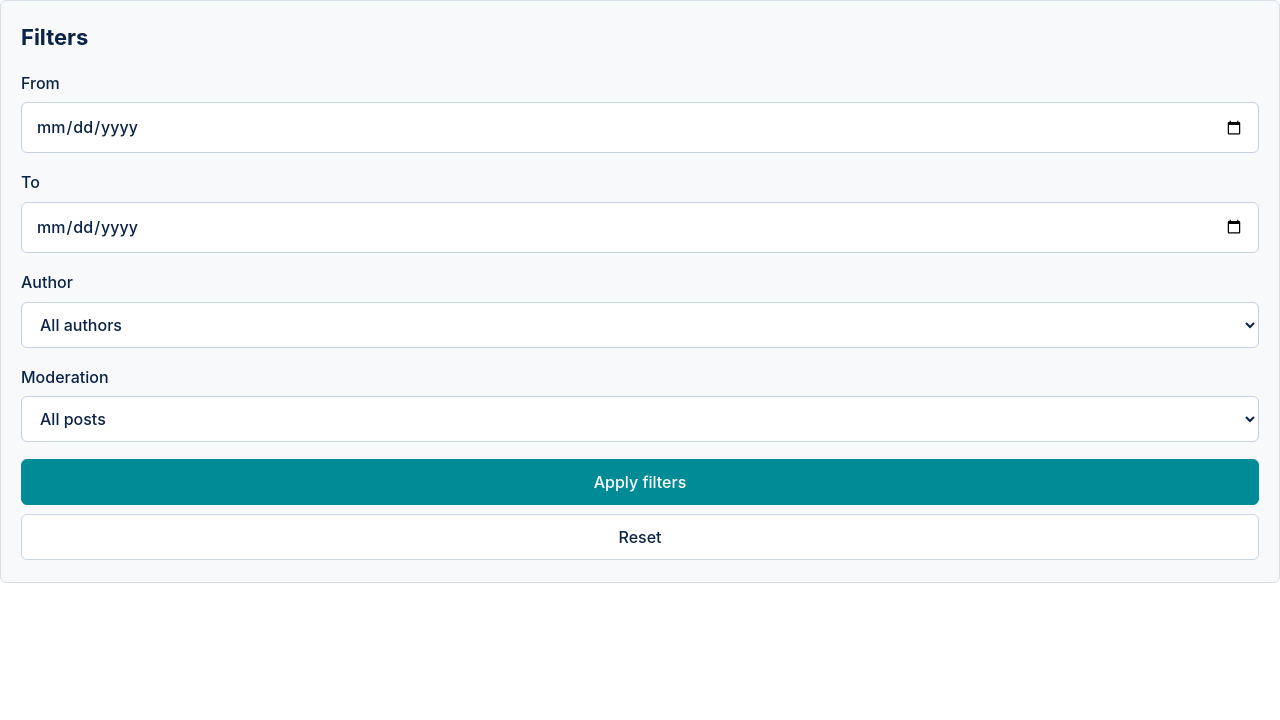
Test: rejects a reversed date range before applying filters
The image size is (1280, 720).
Type "2026-09-20" into the date field labelled "From".
click(640, 128); type("2026-09-20")  # box [21,102,1259,153]
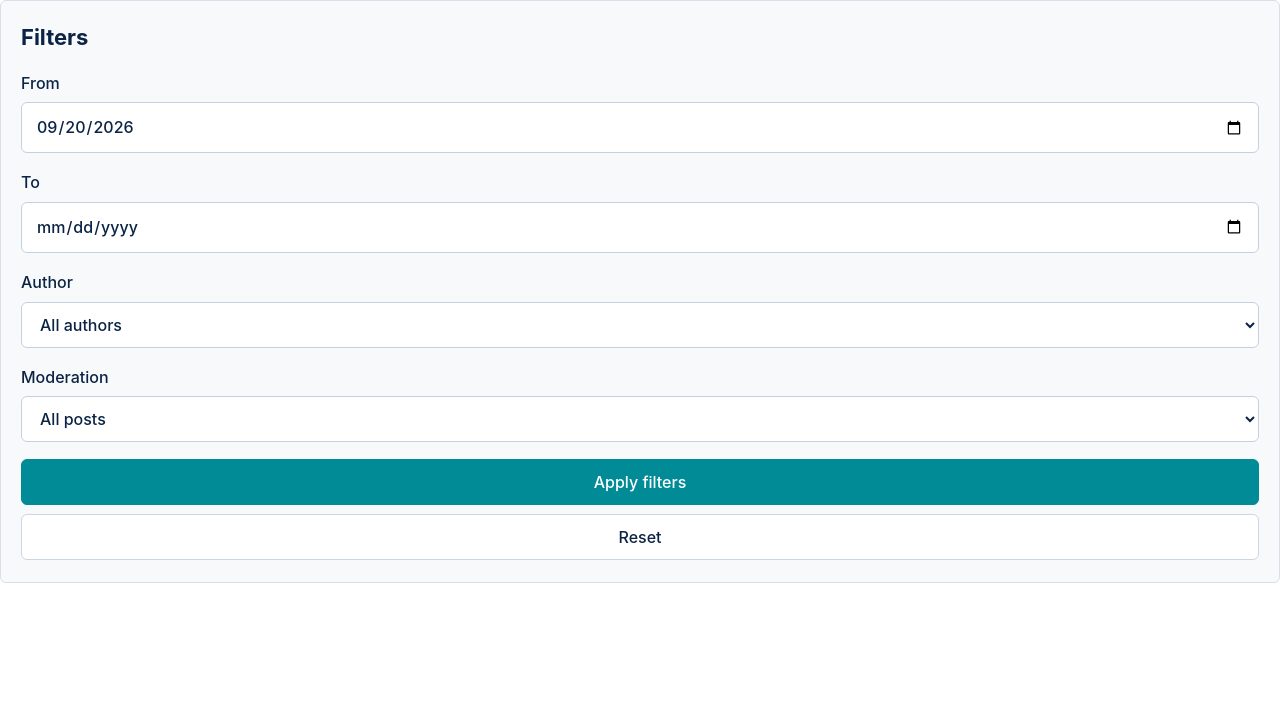
Type "2026-09-10" into the date field labelled "To".
click(640, 227); type("2026-09-10")  # box [21,202,1259,253]
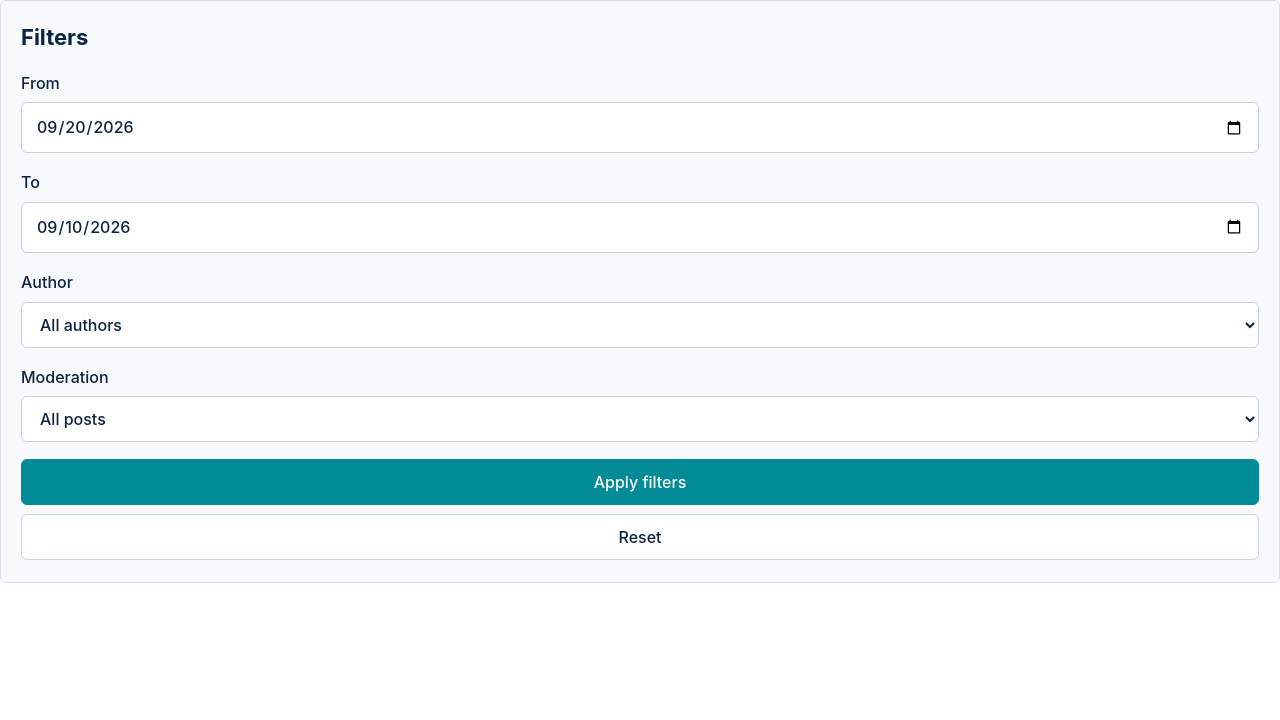
Click the button "Apply filters".
click(640, 482)  # box [21,459,1259,505]
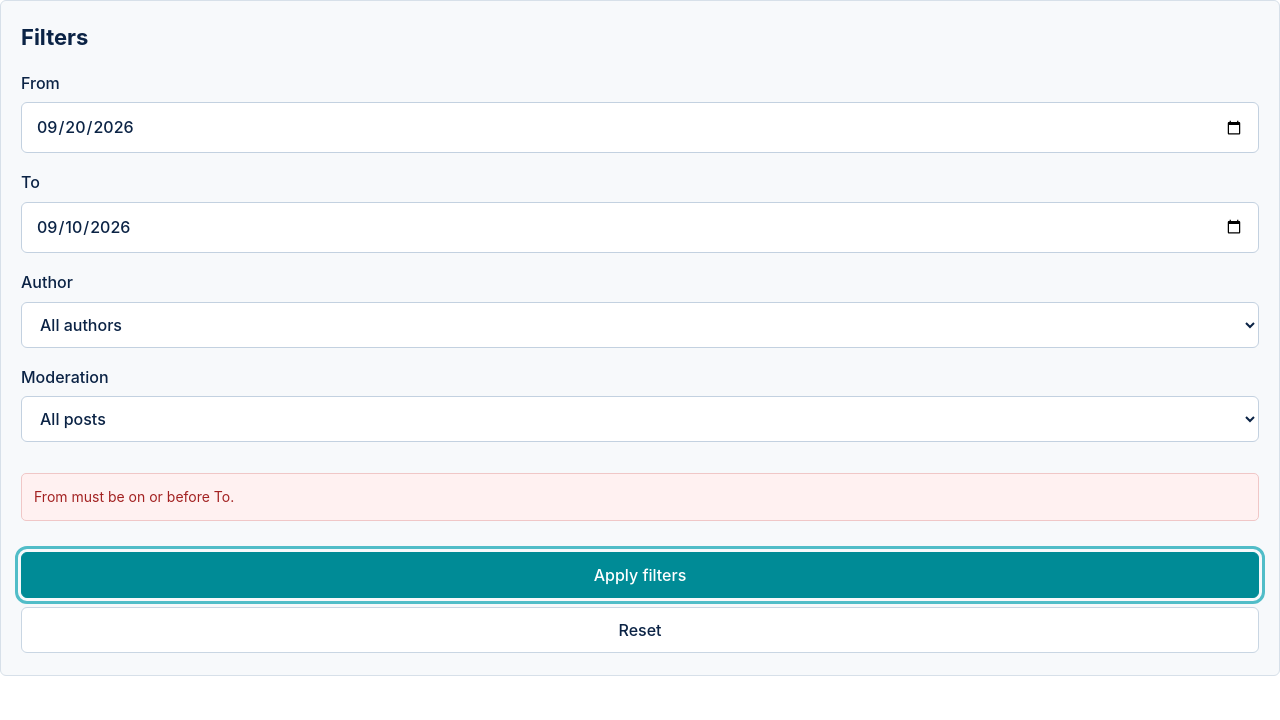
Result: the message reads "From must be on or before To." at [34,488,234,505]
